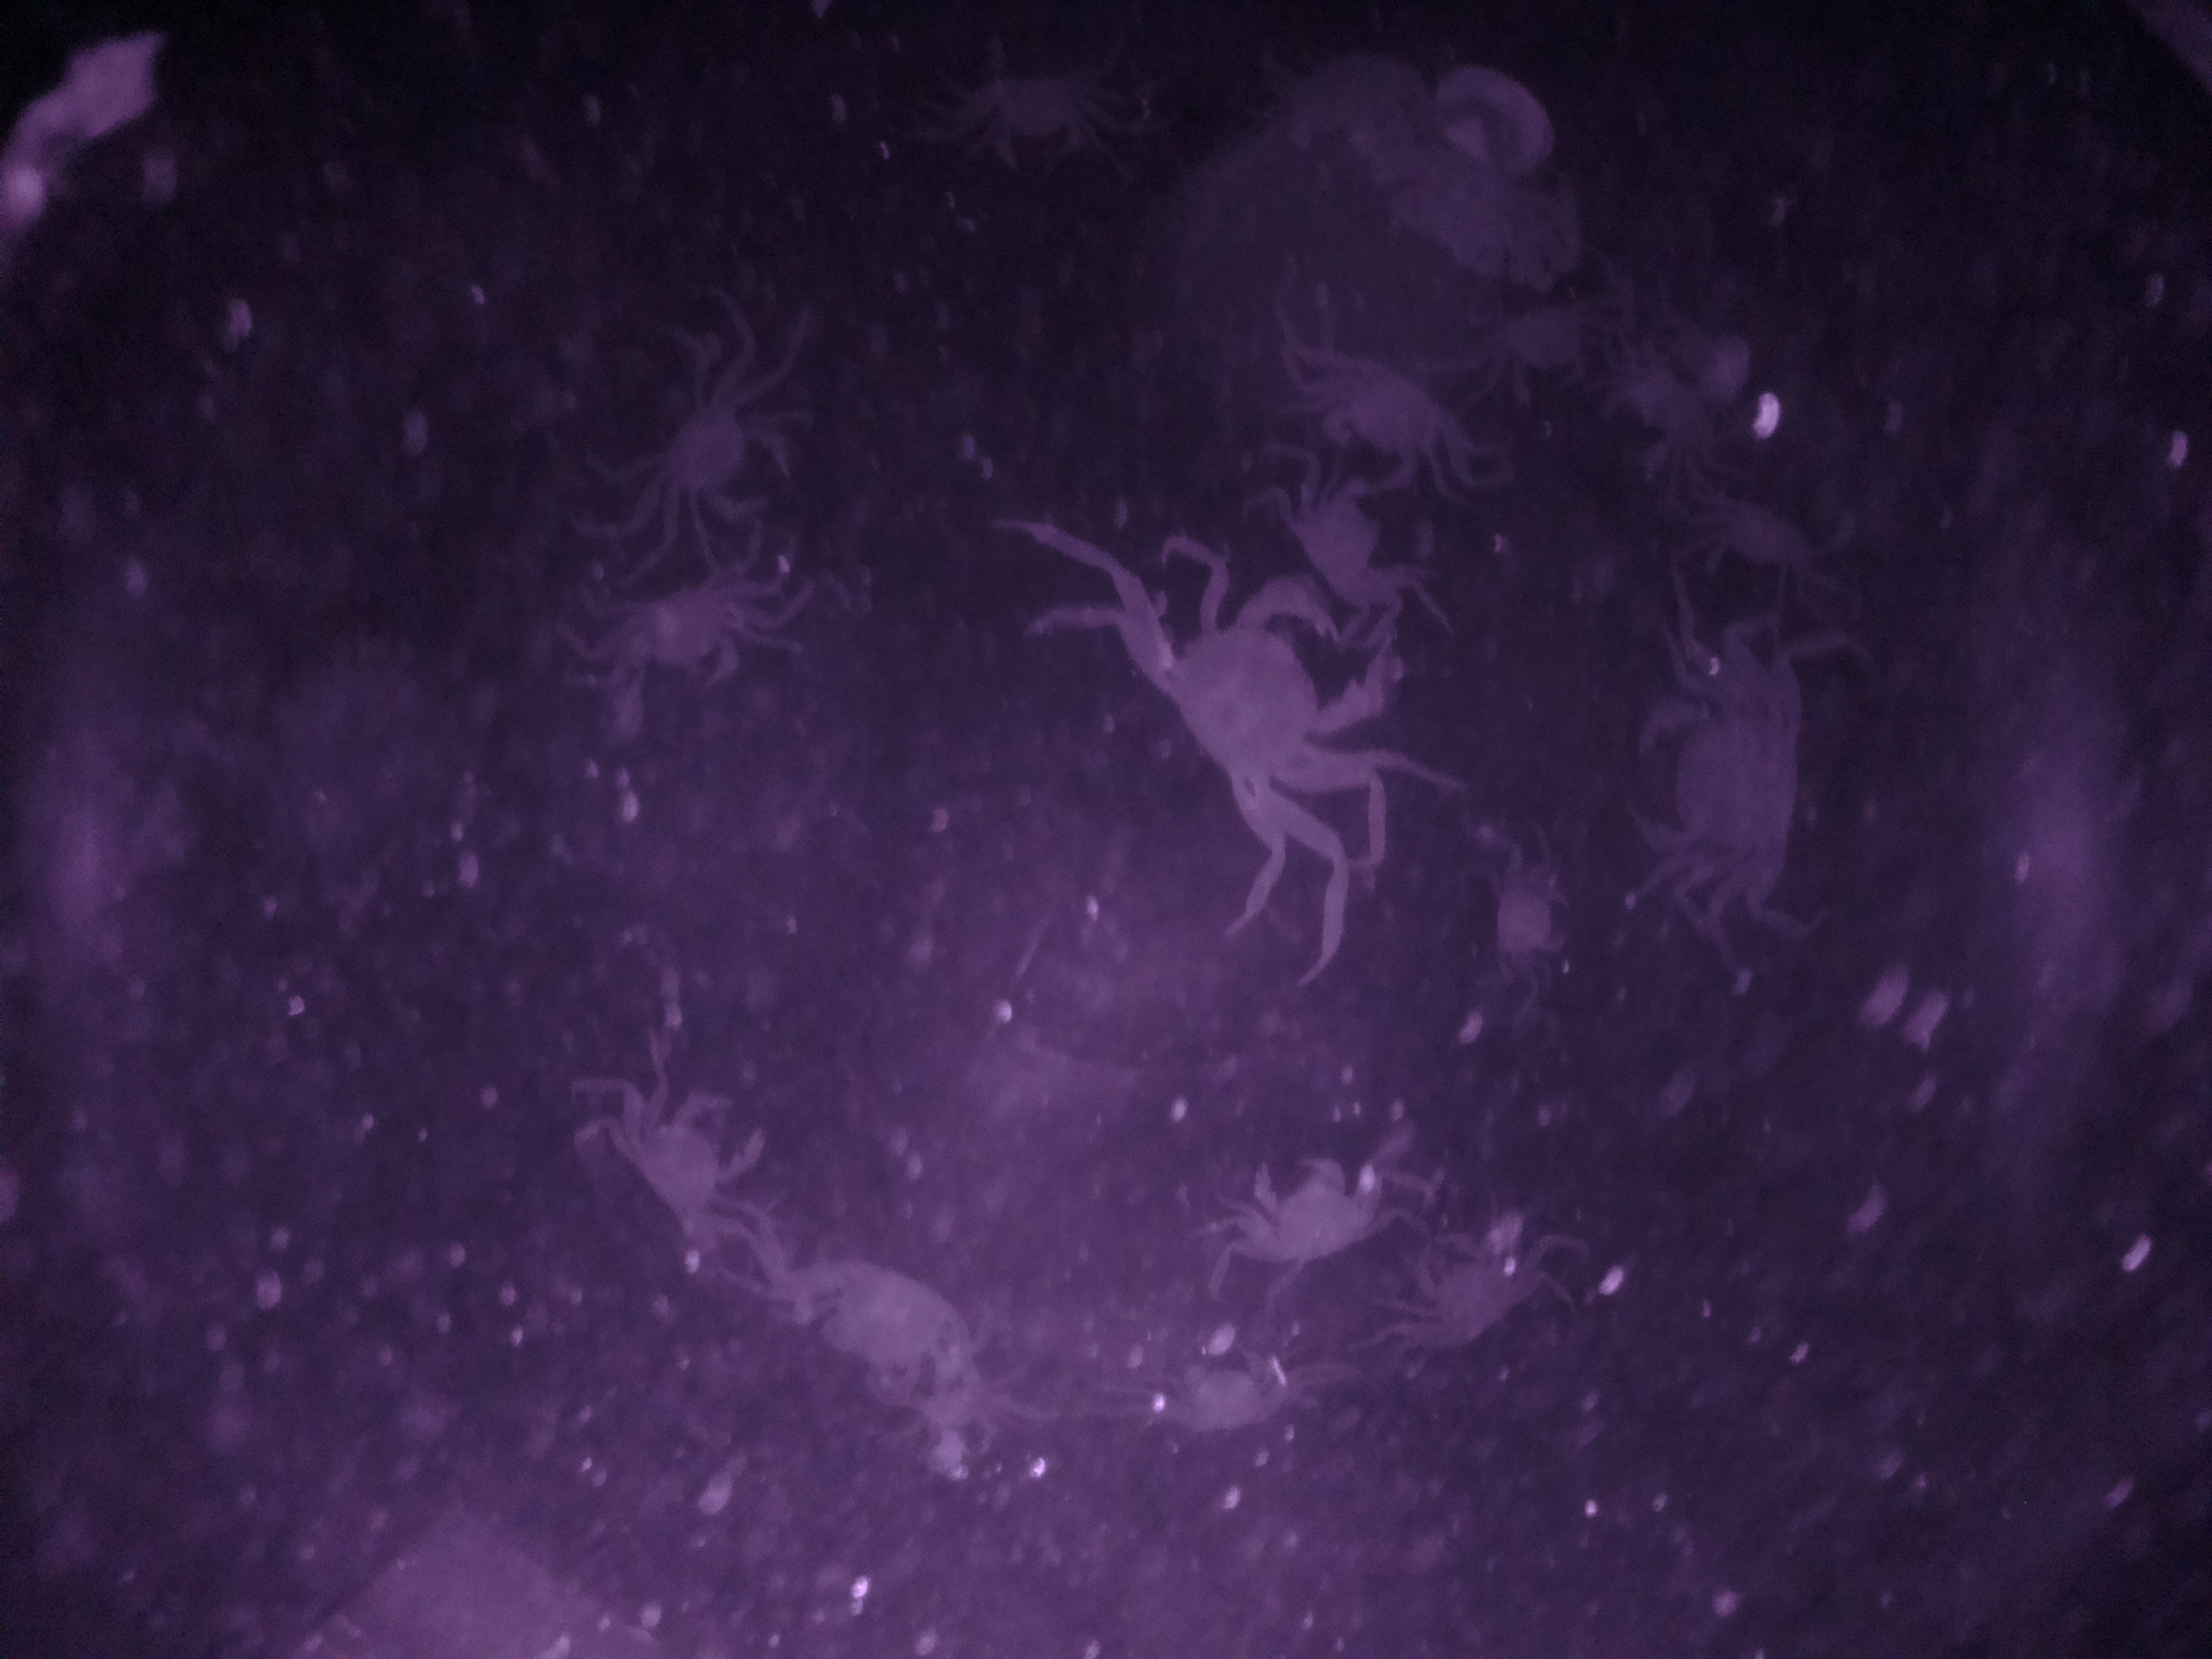Crab: (1148, 573, 1411, 829), (1611, 673, 1827, 904), (596, 1068, 786, 1265), (629, 376, 817, 542), (1305, 352, 1487, 516), (1211, 1134, 1407, 1286)
